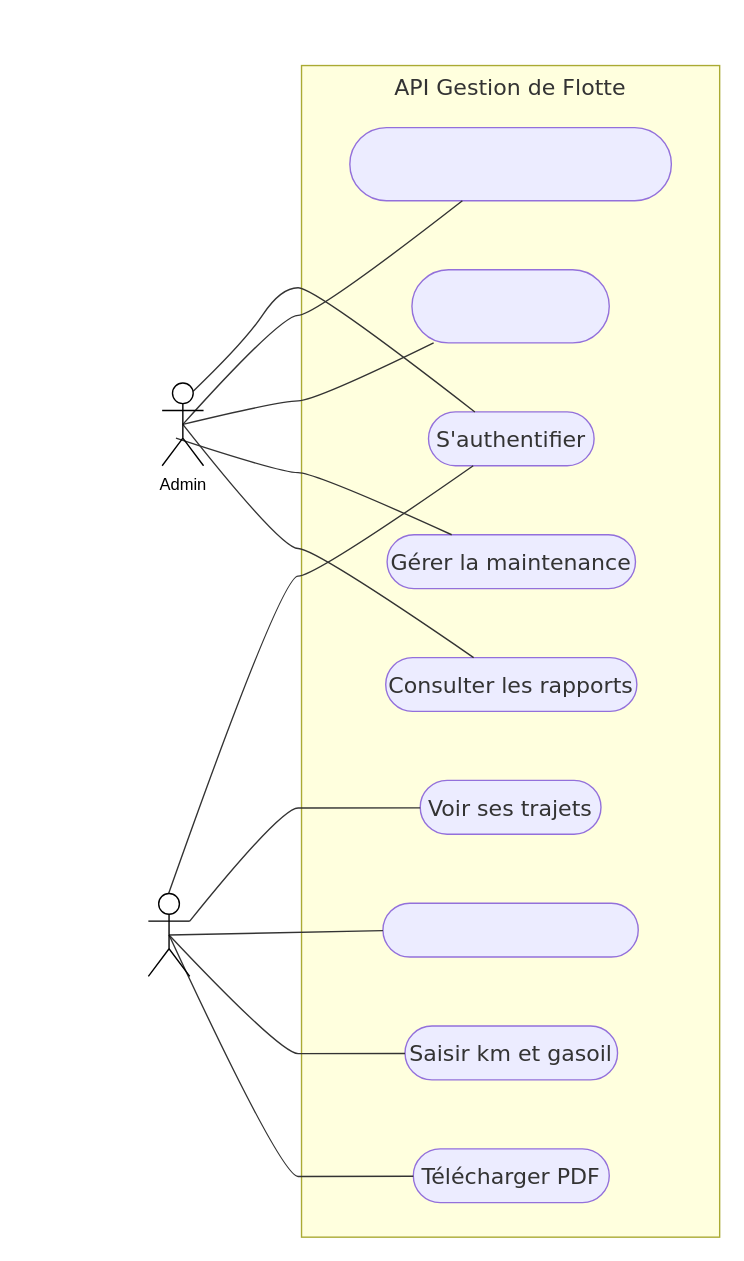
This 744x1261 diagram has some shape labels left out. The centre of each missing label's shape, as x and y in pixels:
Chauffeur: pixel 168 934
Gérer les ressources (camions, remorques, pneus): pixel 509 163
Gérer les trajets (créer, assigner): pixel 510 305
Mettre à jour le statut: pixel 510 929
